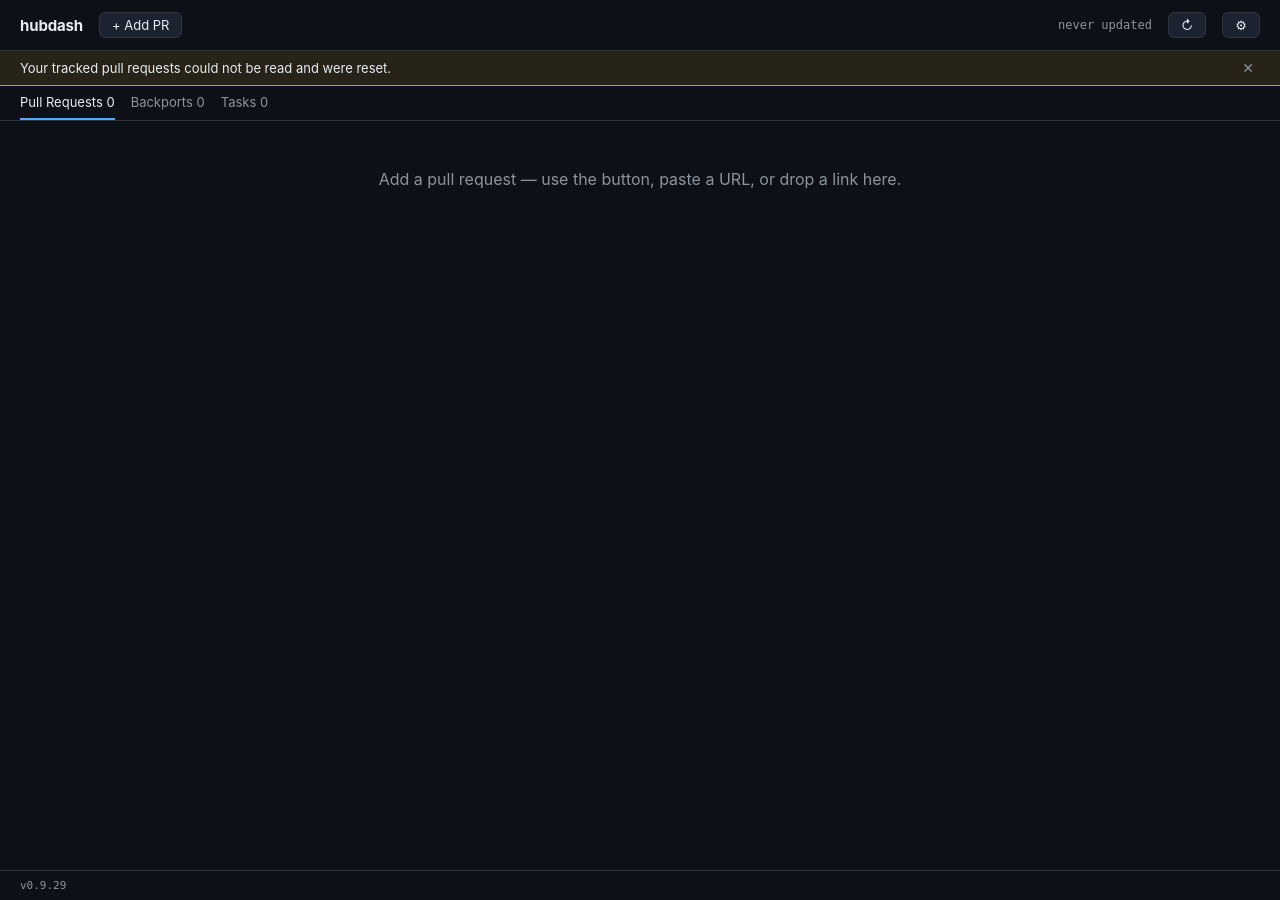
Test: App — failure handling › warns once about an unreadable stored PR list and lets it be dismissed
The image size is (1280, 900).
Expected: the message with test id "banner" shows "tracked pull requests", [20,60,391,76]
Click the button named "dismiss" at (1248, 68), box [1236,59,1260,77]
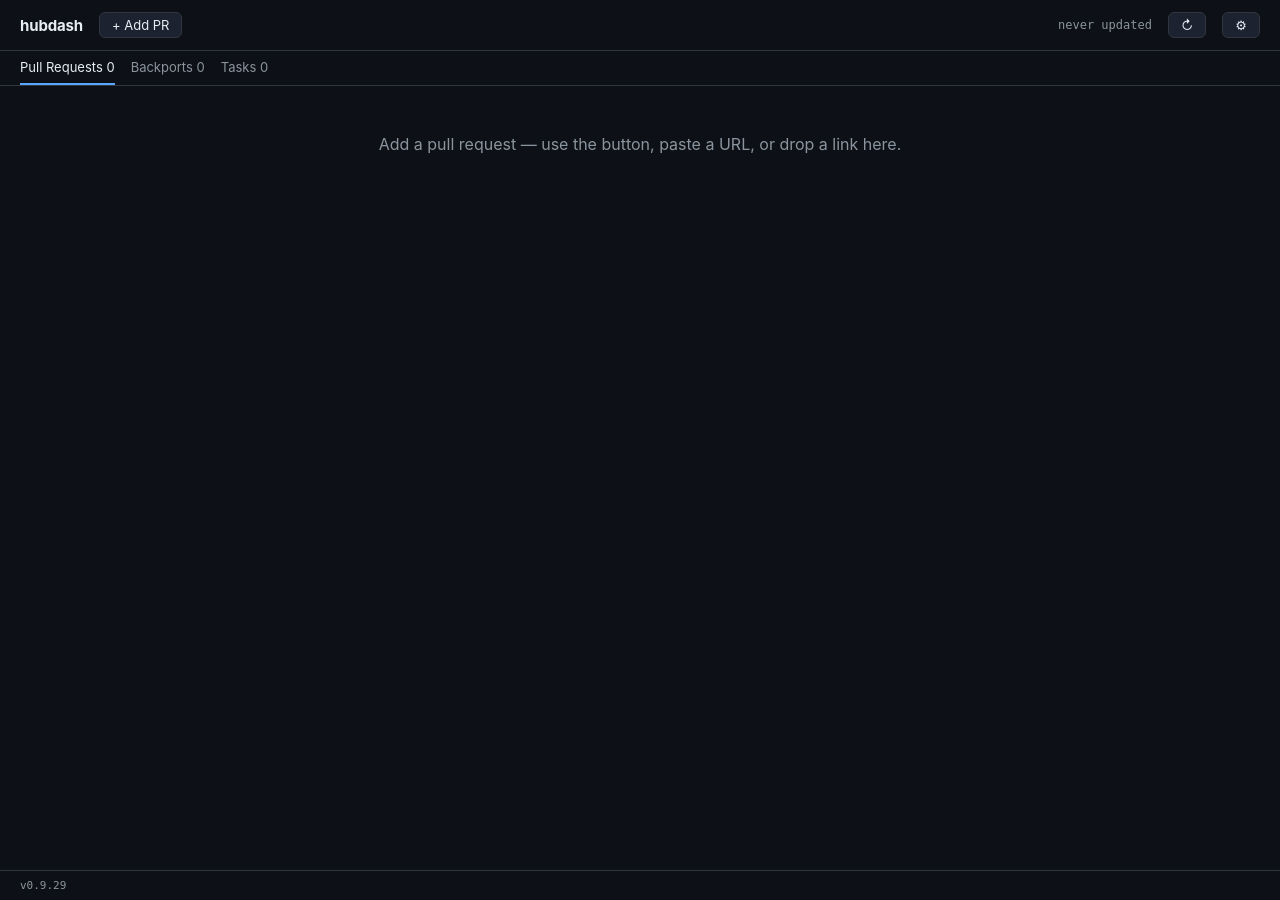
Now the message with test id "banner" is gone
